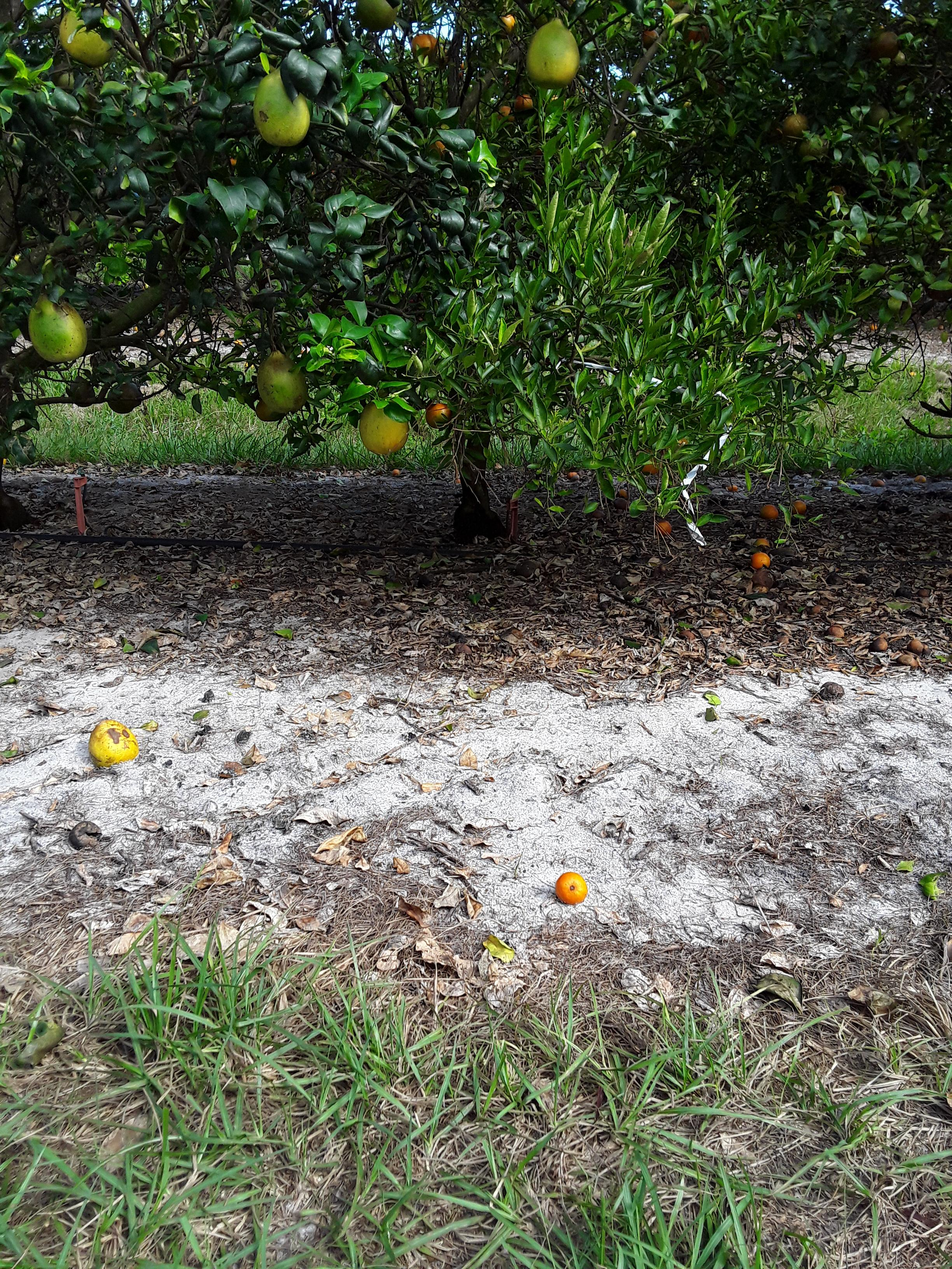fruit_on_ground: (249, 69, 317, 150), (25, 292, 94, 364), (523, 18, 585, 89), (56, 2, 121, 67), (252, 349, 311, 413), (357, 397, 412, 456), (352, 0, 401, 33), (105, 378, 143, 415), (864, 25, 903, 61), (66, 375, 102, 408), (49, 61, 84, 94), (251, 393, 285, 424), (354, 355, 388, 385), (795, 131, 830, 160), (681, 19, 715, 48), (424, 399, 455, 430), (421, 132, 453, 162), (779, 109, 812, 138), (408, 31, 441, 60), (860, 102, 892, 131), (494, 9, 520, 37), (637, 25, 662, 51), (492, 100, 516, 124), (657, 0, 694, 14), (512, 91, 535, 112)
fruit_on_tree: (87, 717, 141, 771), (553, 869, 590, 910), (69, 819, 100, 845), (513, 558, 539, 579), (820, 680, 847, 699), (652, 517, 675, 539), (893, 651, 921, 669), (751, 569, 774, 589), (750, 550, 771, 570), (869, 635, 891, 654), (758, 502, 780, 521), (610, 573, 632, 591), (790, 496, 809, 515), (412, 572, 433, 589), (640, 458, 661, 475), (907, 636, 926, 654), (612, 496, 632, 513), (827, 622, 845, 638), (678, 626, 696, 641), (754, 535, 772, 549), (614, 485, 630, 498), (871, 476, 887, 489), (565, 467, 580, 480), (866, 320, 880, 332), (726, 481, 740, 493), (914, 472, 928, 484), (390, 467, 402, 477)
